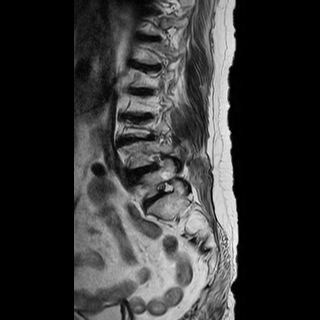RFS0: (153, 175, 177, 201)
